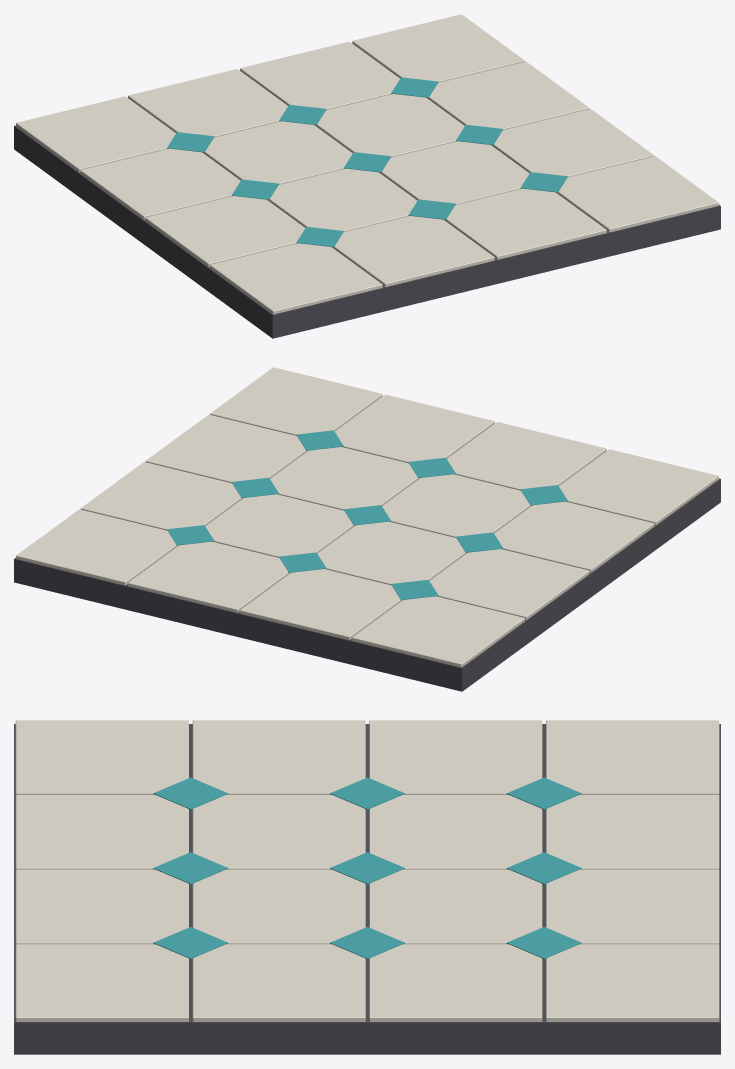
The model's file is floor_mp_tile.glb.
3 views of the same model, one above another, from view 1: azimuth 30°, elevation 25°; view 2: azimuth 150°, elevation 25°; view 3: azimuth 270°, elevation 25° (orthographic). The views are drawn at different scales.
Parts seen in each view (by area): view 1: floor_mp_tile; view 2: floor_mp_tile; view 3: floor_mp_tile.
Boxes of the visible parts, x1=… form: floor_mp_tile: x1=14, y1=14, x2=720, y2=338; floor_mp_tile: x1=14, y1=367, x2=720, y2=691; floor_mp_tile: x1=14, y1=720, x2=720, y2=1054.
Size of the model in its own units: 4 by 0.233 by 4.
